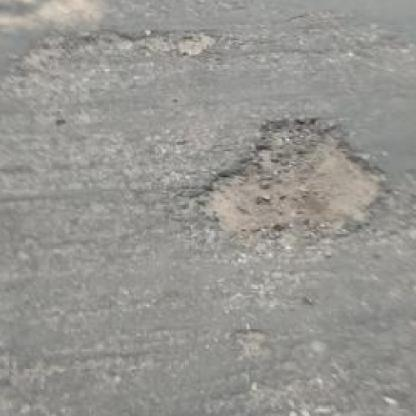pothole: (182, 114, 389, 247), (71, 27, 225, 58)
